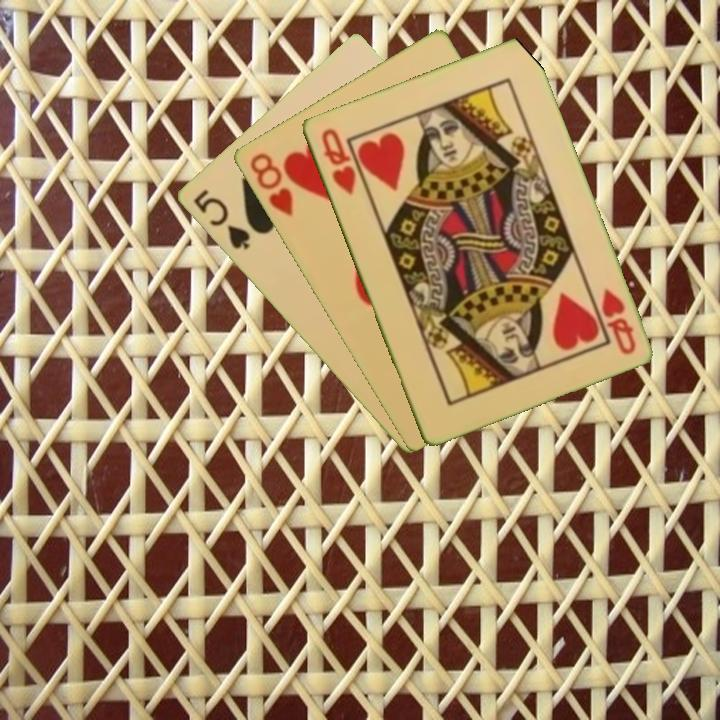5s: (189, 185, 253, 253)
8h: (245, 149, 296, 220)
Qh: (317, 124, 359, 198), (597, 284, 638, 358)
